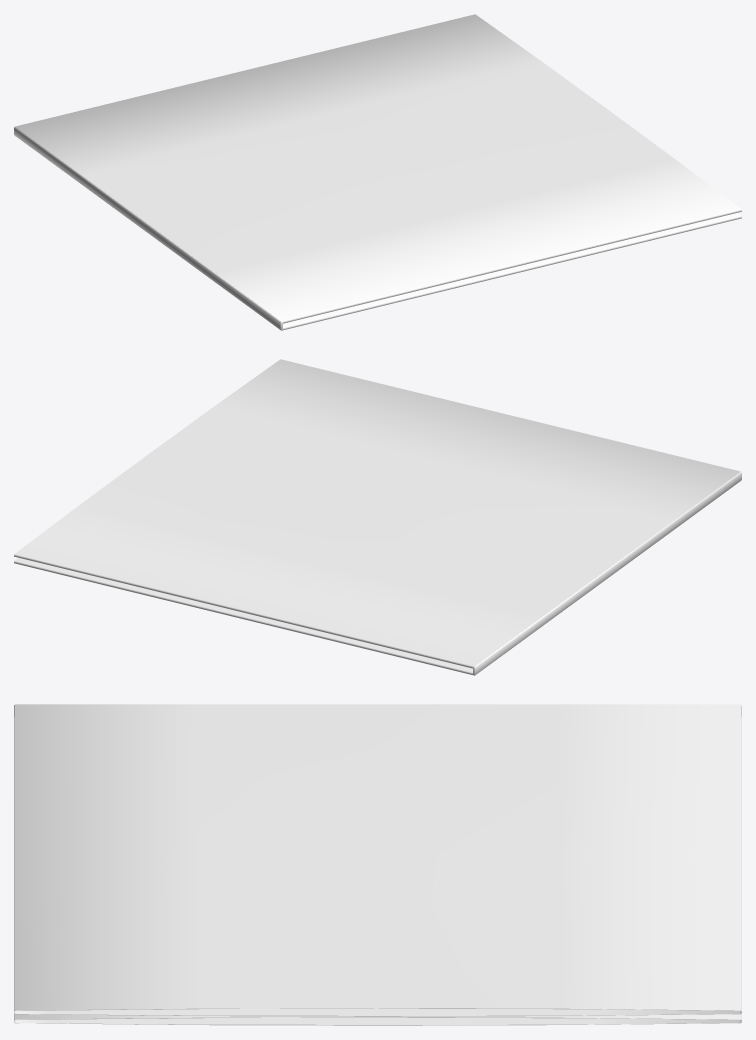
Rendered from sleeve_12_gatefold_AxisMove_group.dae.
3 renders of one model, top to bottom at view 1: azimuth 30°, elevation 25°; view 2: azimuth 150°, elevation 25°; view 3: azimuth 270°, elevation 25°, orthographic. The views are drawn at different scales.
Parts seen in each view (by area): view 1: Front, Back, spine; view 2: Front, Back, spine; view 3: Front, Back.
Boxes of the visible parts, box(x1,y1,x2,y2) form: Front: box(15, 14, 741, 323); Back: box(282, 213, 741, 330); spine: box(14, 127, 282, 330); Front: box(14, 359, 740, 668); Back: box(14, 558, 473, 675); spine: box(473, 472, 741, 675); Front: box(14, 704, 741, 1016); Back: box(14, 1014, 741, 1025).
Size of the model in its own units: 31.18 by 0.9986 by 31.26.
Materials: 3 (3 with a texture image).
